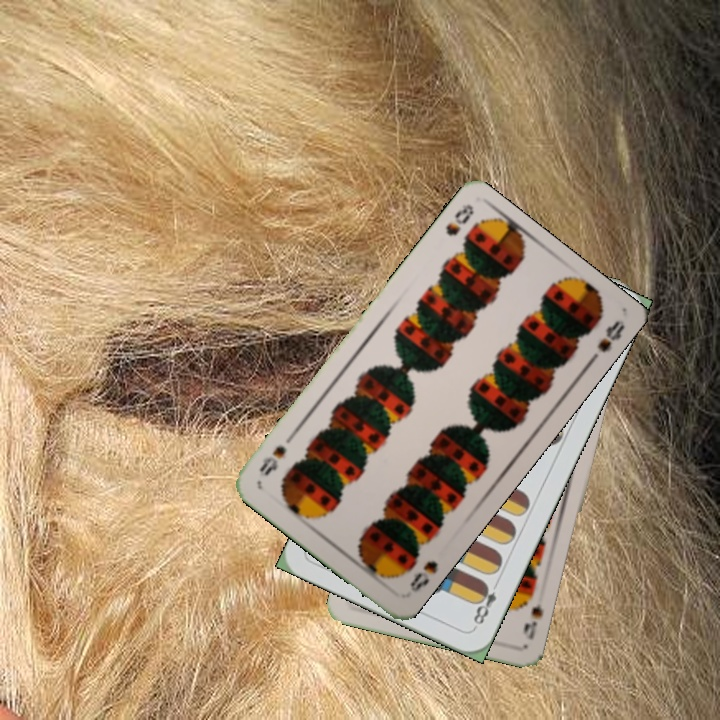E8: (469, 576, 502, 631)
S8: (441, 200, 477, 239), (406, 556, 440, 595)
S9: (519, 599, 546, 643)
